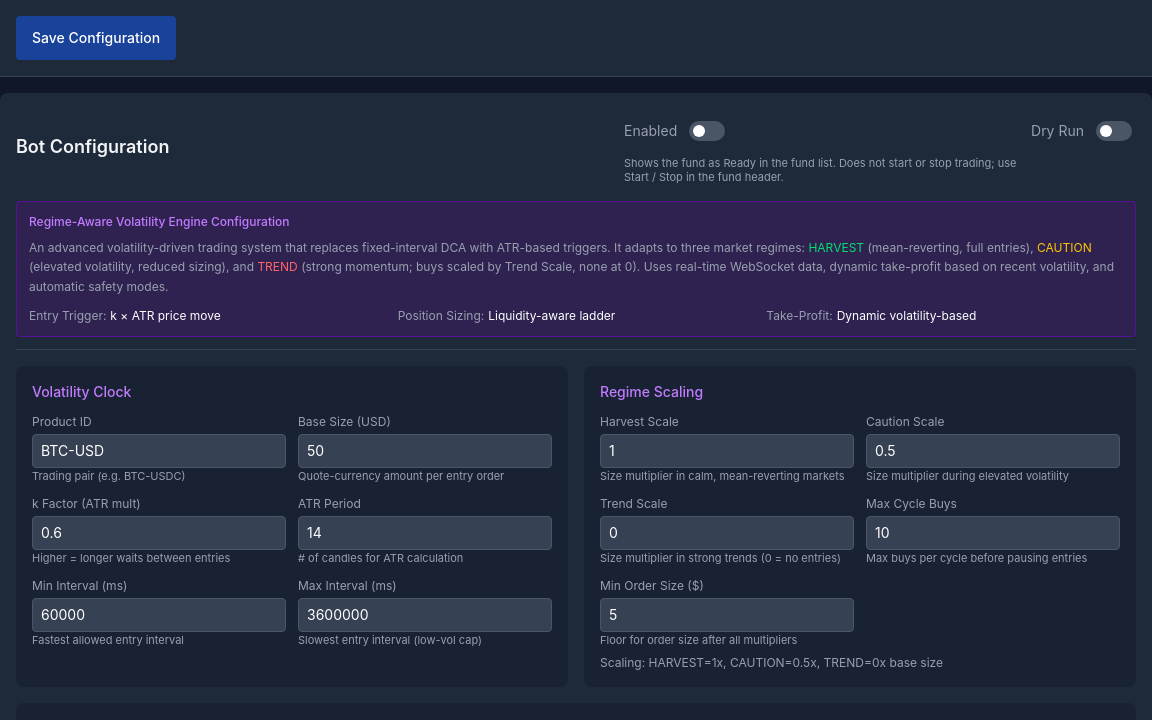
config save response handling › shows the humanized Enabled rejection and restores the unsaved switch
Click the switch named "Enabled" next to "Enabled": {"x": 707, "y": 131} [685,109,729,153]
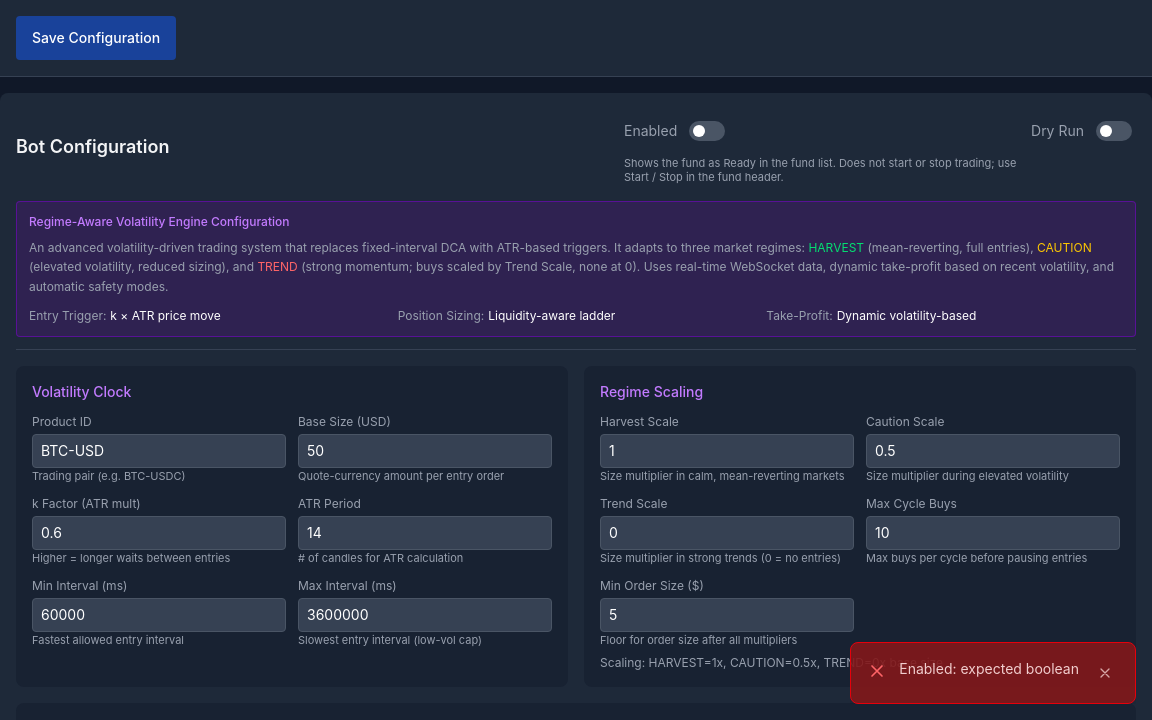
Now the text "Enabled: expected boolean" is shown, box [899,659,1079,679]
